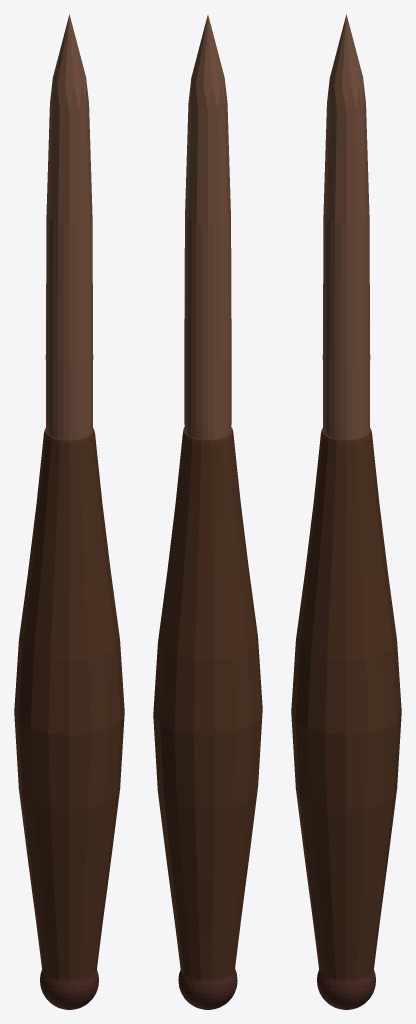
File: Wand 103.glb
3 views of the same model, side by side, from view 1: azimuth 90°, elevation 25°; view 2: azimuth 210°, elevation 25°; view 3: azimuth 270°, elevation 25° (orthographic).
Parts seen in each view (by area): view 1: GeneratedWand; view 2: GeneratedWand; view 3: GeneratedWand.
Boxes of the visible parts, box(x1,y1,x2,y2) form: GeneratedWand: box(14, 14, 124, 1009); GeneratedWand: box(153, 15, 262, 1009); GeneratedWand: box(291, 14, 401, 1009).
Bounding box in the file's own units: 0.0499 × 0.4943 × 0.0499.
